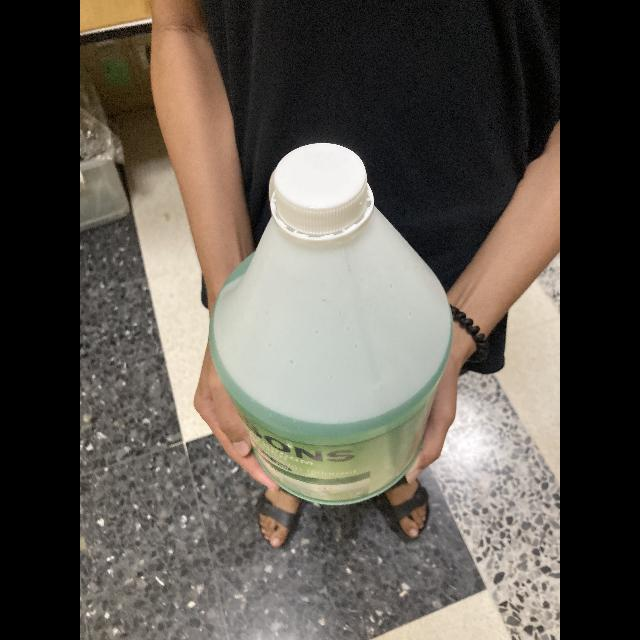chemical_plastic_gallon: (205, 137, 452, 503)
